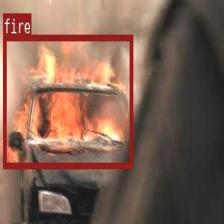fire: (2, 34, 132, 168)
